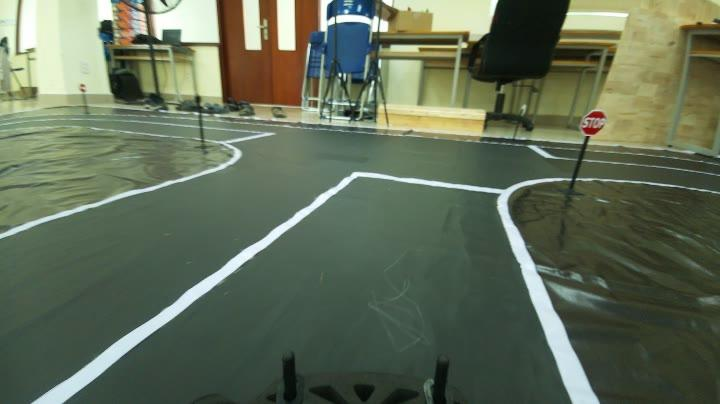stop: (570, 100, 604, 142)
